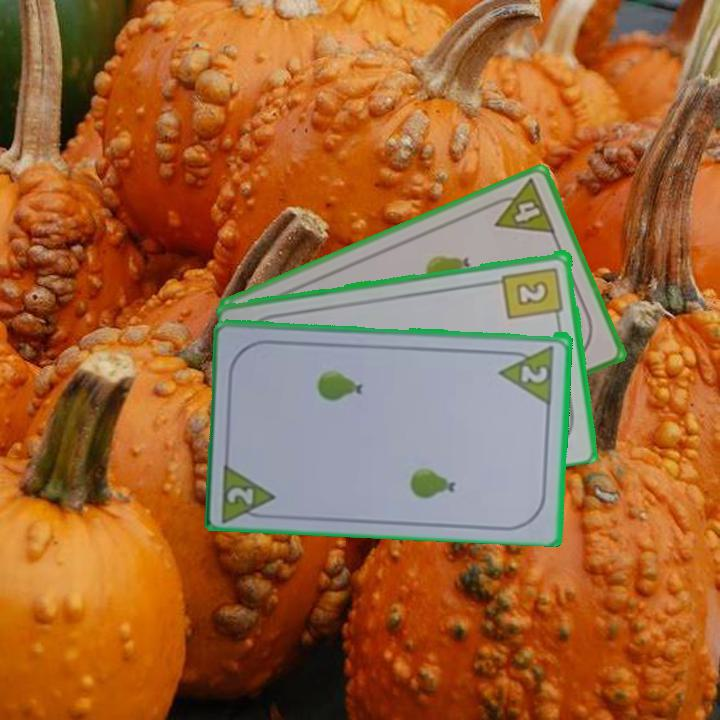2b: (499, 263, 567, 324)
2p: (518, 359, 551, 386), (224, 483, 257, 507)
4p: (483, 175, 558, 237)
